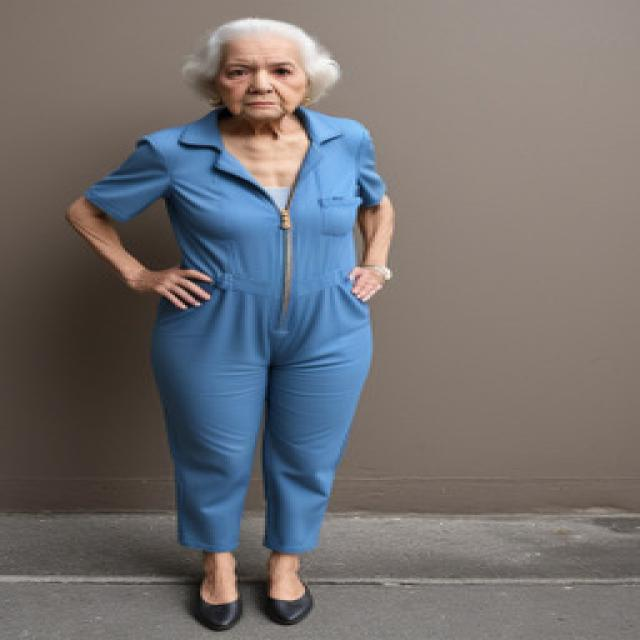Ai human 2: (55, 9, 453, 640)
